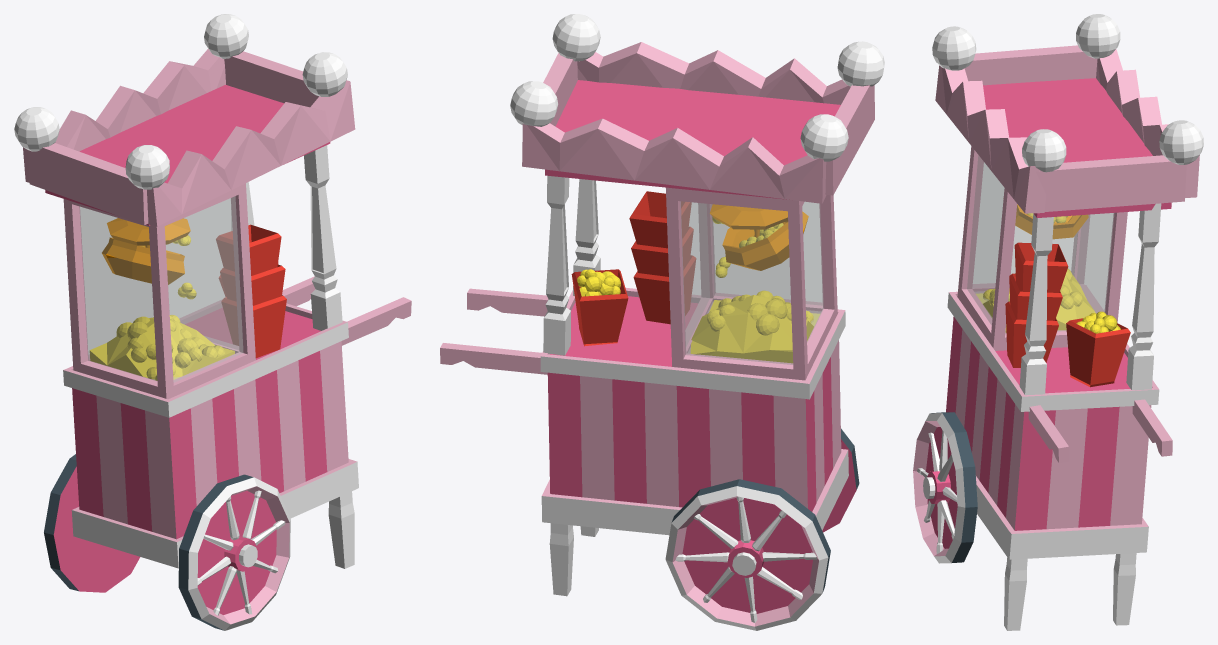
The model's file is Popcorn Cart.glb.
3 renders of one model, left to right at view 1: azimuth 30°, elevation 25°; view 2: azimuth 150°, elevation 25°; view 3: azimuth 270°, elevation 25°, orthographic. The views are drawn at different scales.
Parts seen in each view (by area): view 1: Node; view 2: Node; view 3: Node.
Part boxes in pixels (left/top/right/bottom): Node: left=14, top=14, right=411, bottom=630; Node: left=440, top=14, right=884, bottom=630; Node: left=913, top=14, right=1203, bottom=630.
Bounding box in the file's own units: 0.7595 × 0.9871 × 0.5164.
